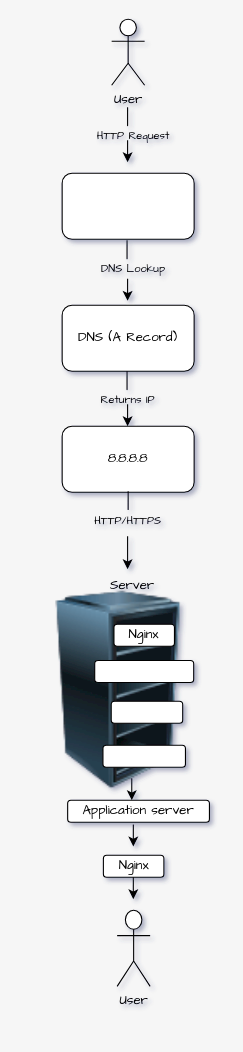
This 243x1052 diagram has some shape labels left out. Here are the shapes that lost their labels. From the top down, the centre of each, then its label:
the point at 127,205: www.foobar.com
the point at 144,671: App Server
the point at 146,711: App Files
the point at 143,755: MySQL DB
